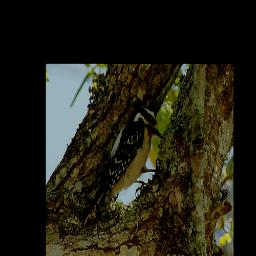Woodpecker: (81, 101, 165, 224)
